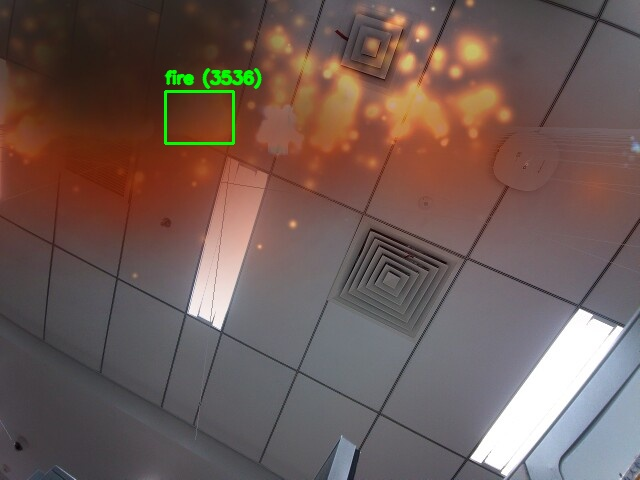fire: (165, 91, 233, 143)
